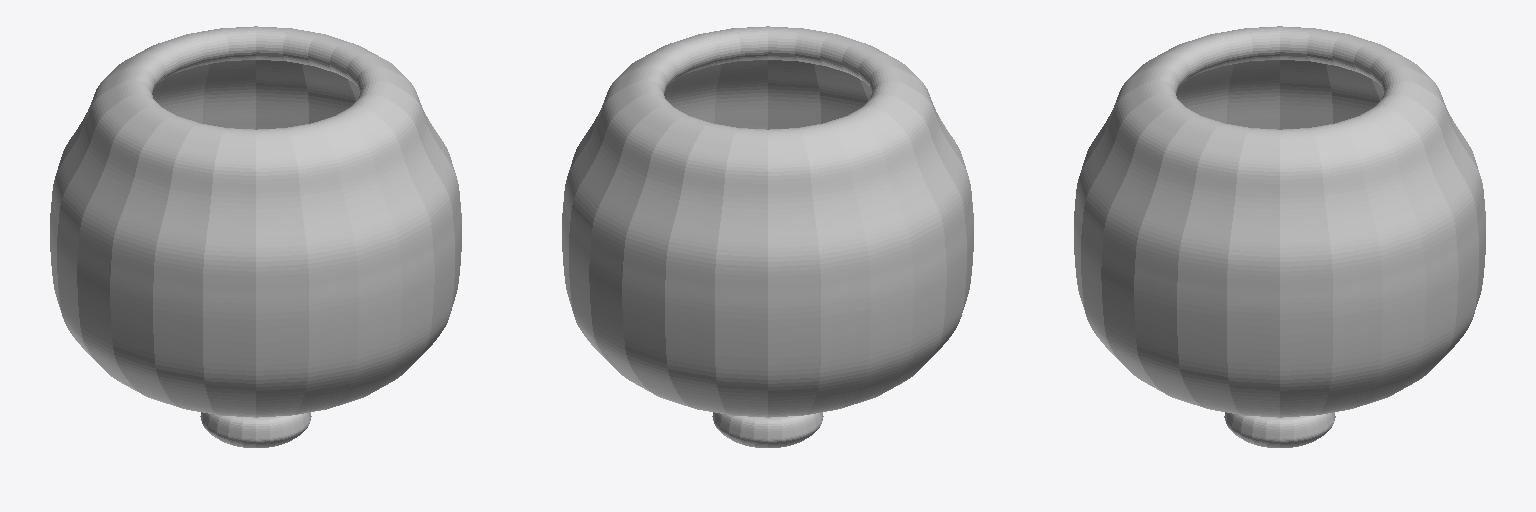
File: FishAndBowl.obj
3 renders of one model, left to right at view 1: azimuth 30°, elevation 25°; view 2: azimuth 150°, elevation 25°; view 3: azimuth 270°, elevation 25°, orthographic.
Parts seen in each view (by area): view 1: revolvedSurface1; view 2: revolvedSurface1; view 3: revolvedSurface1.
Boxes of the visible parts, <box> form: revolvedSurface1: <box>50,26,461,447</box>; revolvedSurface1: <box>562,26,973,447</box>; revolvedSurface1: <box>1074,26,1485,447</box>.
Bounding box in the file's own units: 8.37 × 7.85 × 8.37.